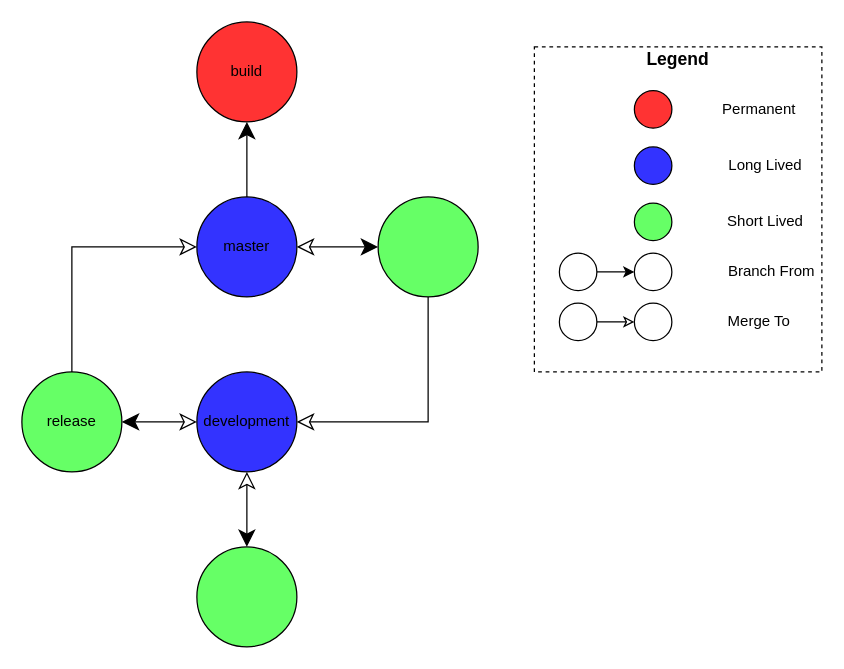
This 844x669 diagram has some shape labels left out. Here are the shapes that lost their labels. From the top down, the centre of each, then its label:
pixel 427 246: hotfix
pixel 246 596: feature
